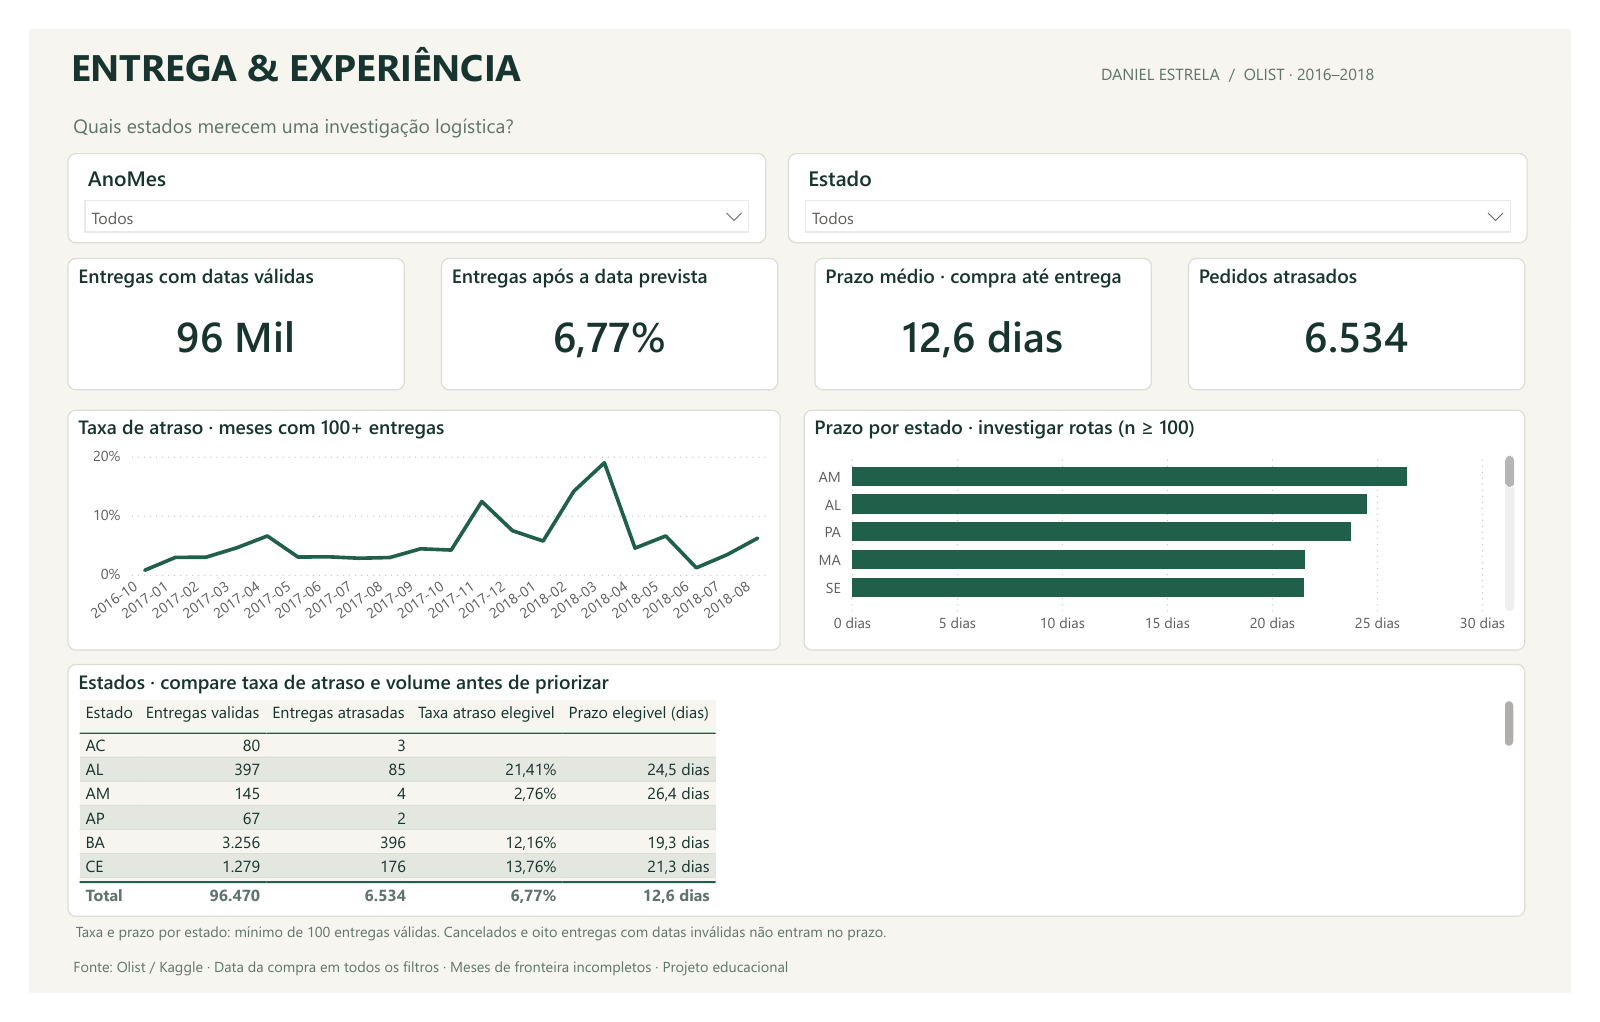

What the dashboard file says about the page in this screenshot:
{"tool":"powerbi","page":{"name":"02 · Logística","canvas":[1280,800],"ordinal":1},"visuals":[{"type":"textbox","box":[30,6,850,64],"z":7},{"type":"textbox","box":[32,65,800,38],"z":8},{"type":"textbox","box":[885,24,360,35],"z":9},{"type":"slicer","fields":{"Values":["DimCalendario.AnoMes"]},"box":[32,103,580,75],"z":10},{"type":"slicer","fields":{"Values":["DimEstado.Estado"]},"box":[630,103,614,75],"z":11},{"type":"textbox","box":[32,764,1200,35],"z":12},{"type":"card","title":"Entregas com datas válidas","fields":{"Values":["FatoPedidos.Entregas validas"]},"box":[32,190,280,110],"z":21},{"type":"card","title":"Entregas após a data prevista","fields":{"Values":["FatoPedidos.Taxa atraso"]},"box":[342,190,280,110],"z":22},{"type":"card","title":"Prazo médio · compra até entrega","fields":{"Values":["FatoPedidos.Prazo medio (dias)"]},"box":[652,190,280,110],"z":23},{"type":"card","title":"Pedidos atrasados","fields":{"Values":["FatoPedidos.Entregas atrasadas"]},"box":[962,190,280,110],"z":24},{"type":"lineChart","title":"Taxa de atraso · meses com 100+ entregas","fields":{"Category":["DimCalendario.AnoMes"],"Y":["FatoPedidos.Taxa atraso elegivel"]},"box":[32,316,592,200],"z":25},{"type":"clusteredBarChart","title":"Prazo por estado · investigar rotas (n ≥ 100)","fields":{"Category":["DimEstado.Estado"],"Y":["FatoPedidos.Prazo elegivel (dias)"]},"box":[643,316,599,200],"z":26},{"type":"tableEx","title":"Estados · compare taxa de atraso e volume antes de priorizar","fields":{"Values":["DimEstado.Estado","FatoPedidos.Entregas validas","FatoPedidos.Entregas atrasadas","FatoPedidos.Taxa atraso elegivel","FatoPedidos.Prazo elegivel (dias)"]},"box":[32,527,1210,210],"z":27},{"type":"textbox","box":[34,735,1200,34],"z":28}]}

Visuals, with their boxes in screenshot pixels (x1, y1, x2, y2), scaled from the page's 1280x800 canvas onto the 1600x1022 screenshot:
textbox: <bbox>38, 8, 1100, 89</bbox>
textbox: <bbox>40, 83, 1040, 132</bbox>
textbox: <bbox>1106, 31, 1556, 75</bbox>
slicer - DimCalendario.AnoMes: <bbox>40, 132, 765, 227</bbox>
slicer - DimEstado.Estado: <bbox>788, 132, 1555, 227</bbox>
textbox: <bbox>40, 976, 1540, 1021</bbox>
"Entregas com datas válidas" card: <bbox>40, 243, 390, 383</bbox>
"Entregas após a data prevista" card: <bbox>428, 243, 778, 383</bbox>
"Prazo médio · compra até entrega" card: <bbox>815, 243, 1165, 383</bbox>
"Pedidos atrasados" card: <bbox>1202, 243, 1552, 383</bbox>
"Taxa de atraso · meses com 100+ entregas" lineChart: <bbox>40, 404, 780, 659</bbox>
"Prazo por estado · investigar rotas (n ≥ 100)" clusteredBarChart: <bbox>804, 404, 1552, 659</bbox>
"Estados · compare taxa de atraso e volume antes de priorizar" tableEx: <bbox>40, 673, 1552, 942</bbox>
textbox: <bbox>42, 939, 1542, 982</bbox>
